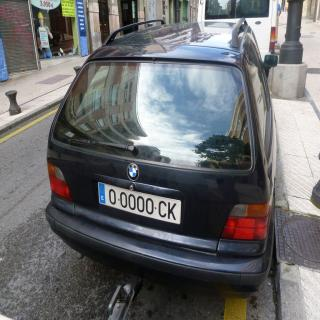license: (98, 181, 183, 226)
